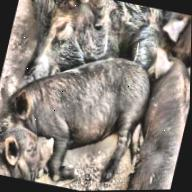boar: (0, 45, 161, 165), (5, 0, 163, 80), (119, 40, 191, 190), (0, 101, 62, 184)
